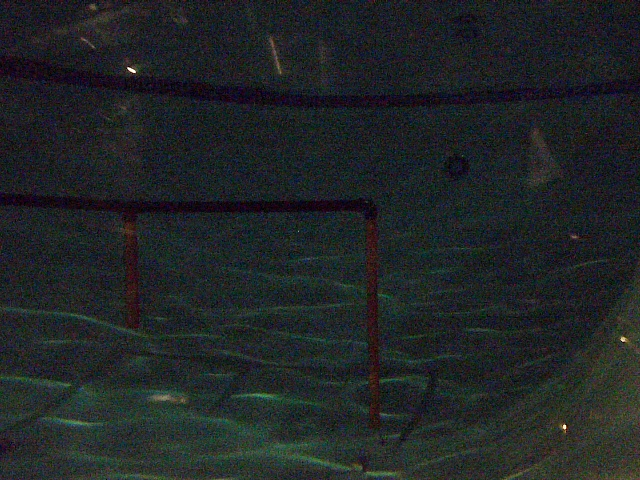Gate: (361, 214, 381, 437), (118, 208, 146, 328)
